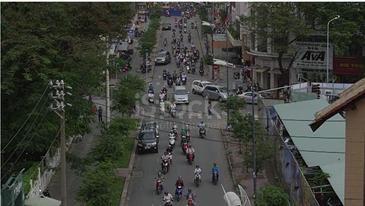car: (133, 116, 163, 159), (201, 84, 235, 107), (233, 89, 271, 104), (171, 83, 192, 109), (153, 48, 174, 71), (191, 78, 215, 96)
motorcycle: (209, 165, 223, 187), (171, 182, 185, 202), (153, 174, 165, 196), (159, 154, 172, 174), (192, 167, 203, 188), (197, 123, 208, 141), (186, 147, 196, 166), (167, 131, 176, 150), (181, 138, 191, 154), (147, 92, 156, 108), (159, 102, 167, 116), (184, 63, 193, 75), (170, 105, 178, 118), (180, 74, 188, 86), (167, 76, 173, 88), (198, 66, 204, 77)
